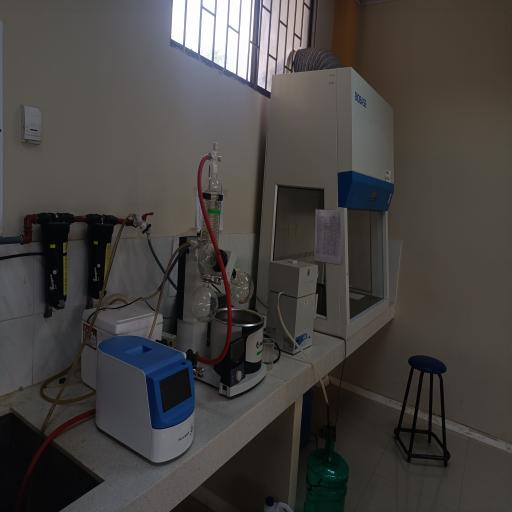Camara_Extractora_Biobase: (246, 52, 410, 357)
